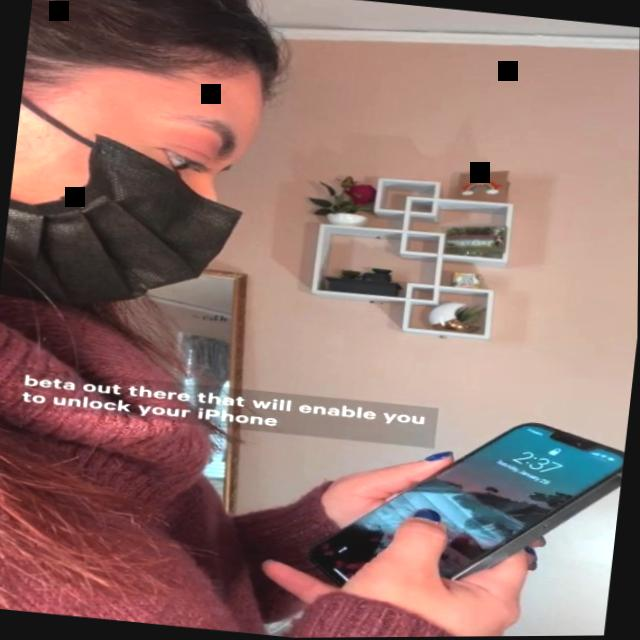Mask: (0, 35, 277, 333)
